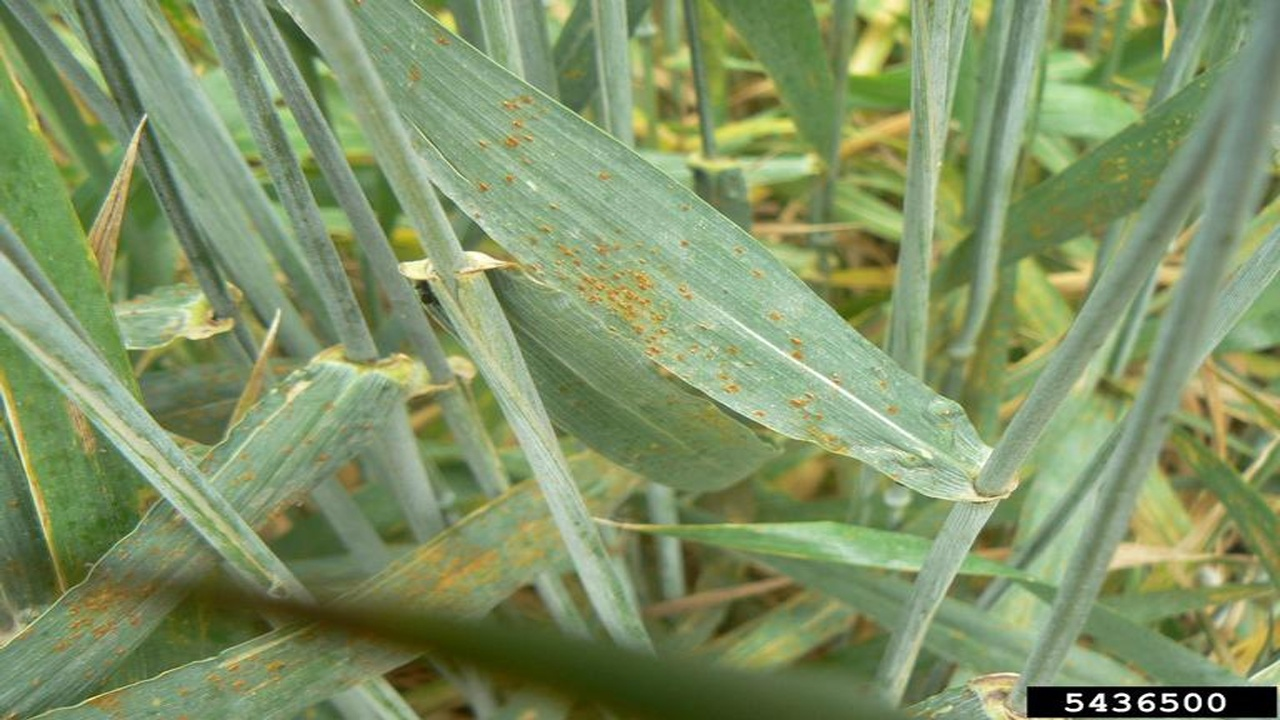leaf_rust: (344, 4, 982, 509), (28, 346, 604, 719)
